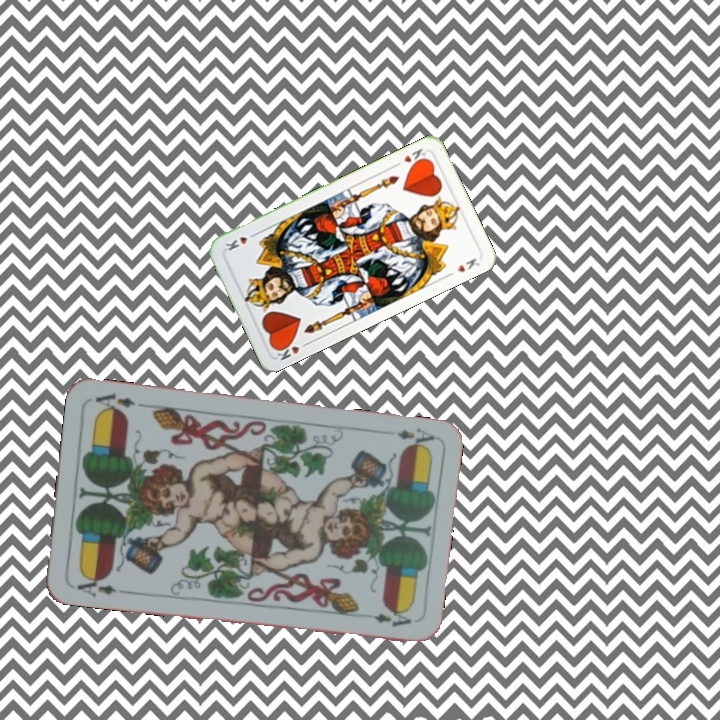EA: (73, 571, 127, 600), (392, 424, 438, 452)
HK: (270, 337, 312, 363), (391, 144, 429, 170)
